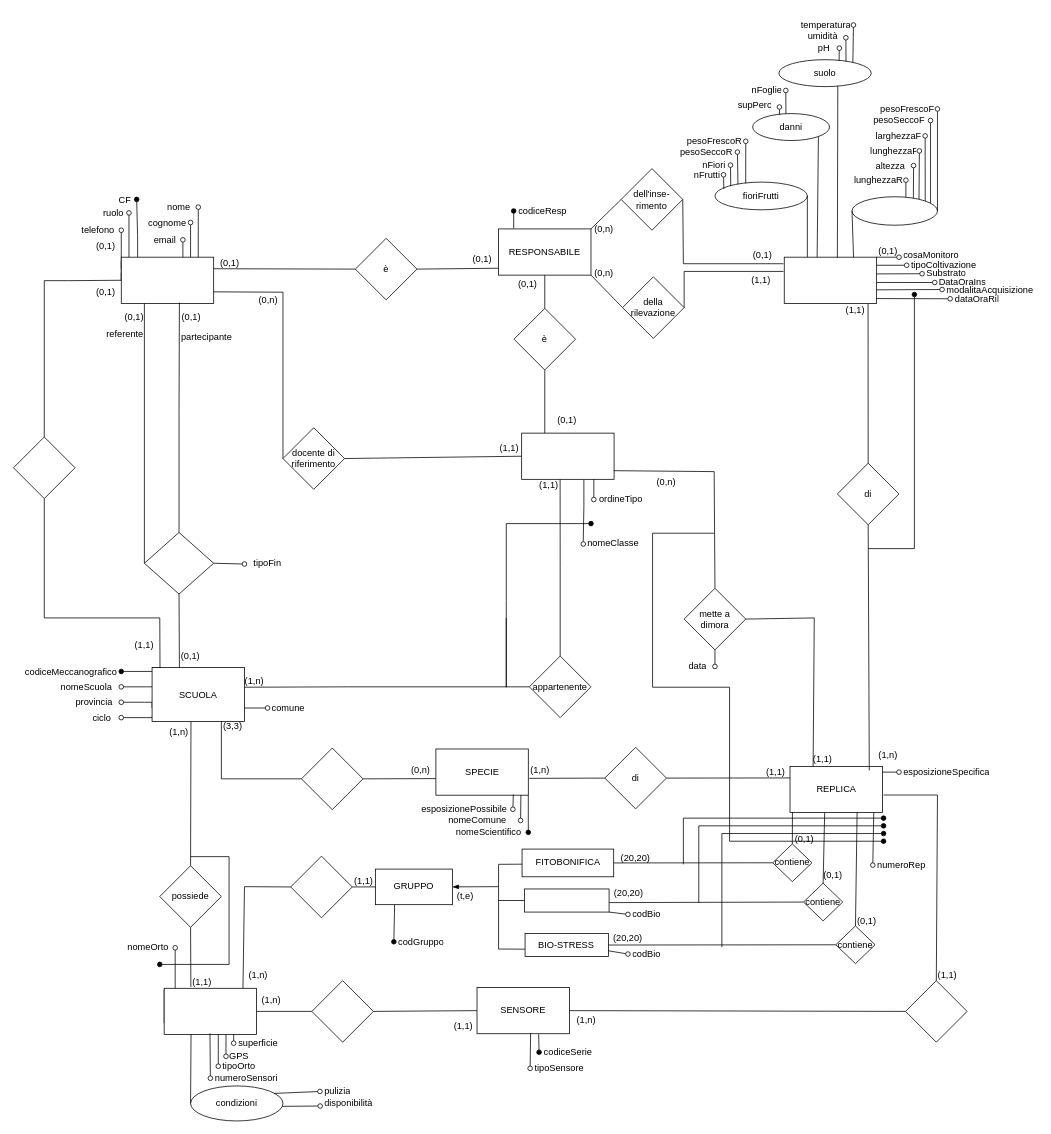
The diagram is 1051 pixels wide and 1134 high, and some of its shapes have lost their labels. The box of each missing label's shape, as (x1, y1, x2, y2) in pixels:
associate a: (905, 980, 967, 1042)
BIO-CONTROLLO: (524, 888, 609, 912)
biomassa: (851, 196, 937, 225)
CLASSE: (521, 432, 614, 479)
finanziamento: (144, 532, 214, 594)
ha: (290, 855, 352, 918)
in: (311, 980, 373, 1042)
ORTO: (163, 988, 257, 1034)
PERSONA: (121, 256, 214, 303)
referente iniziativa: (13, 436, 75, 499)
RILEVAZIONE: (783, 256, 877, 303)
si occupa di: (301, 747, 363, 810)
